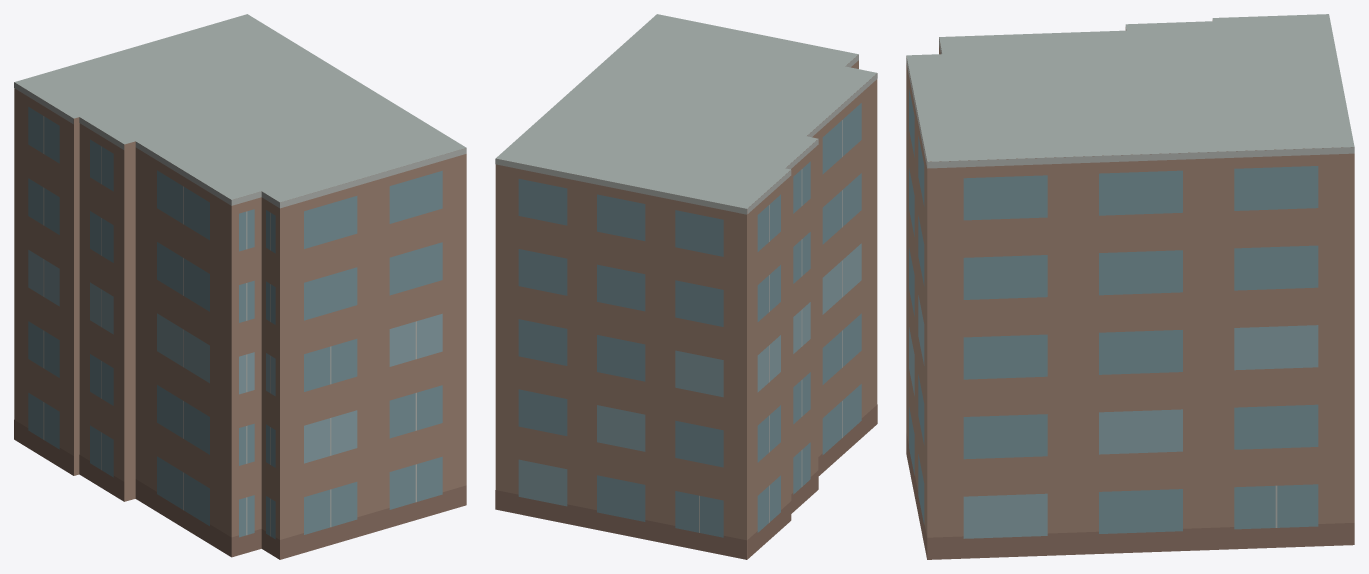
File: survey-upis-32778848.glb
3 renders of one model, left to right at view 1: azimuth 30°, elevation 25°; view 2: azimuth 150°, elevation 25°; view 3: azimuth 270°, elevation 25°, orthographic. The views are drawn at different scales.
Parts seen in each view (by area): view 1: survey-upis-32778848.tmp; view 2: survey-upis-32778848.tmp; view 3: survey-upis-32778848.tmp.
Boxes of the visible parts, box(x1,y1,x2,y2) form: survey-upis-32778848.tmp: box(14, 14, 466, 559); survey-upis-32778848.tmp: box(495, 14, 877, 559); survey-upis-32778848.tmp: box(906, 14, 1354, 559).
Size of the model in its own units: 11.68 by 14.65 by 14.96.
